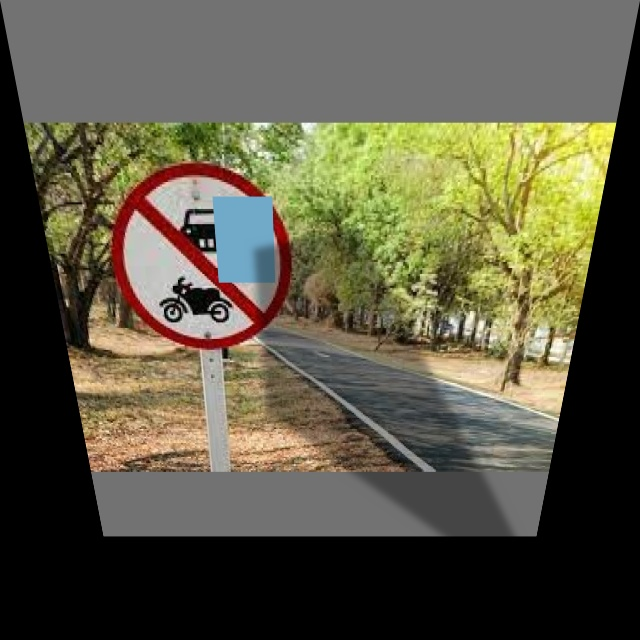All_Motor_Vehicles_Prohibited: (102, 164, 290, 344)
